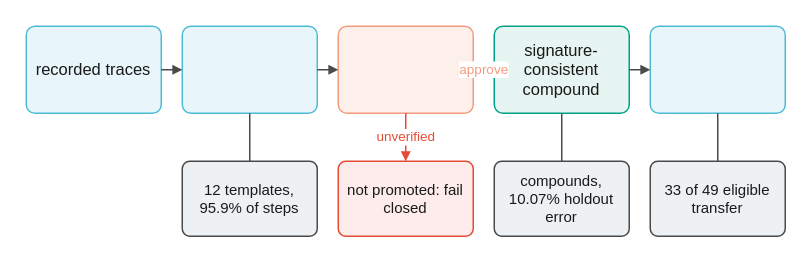
This 812x263 diagram has some shape labels left out. Each missing label, with the centre of its shape:
"action-signature mining" belongs at (249,69).
"developer gate" belongs at (405,69).
"replay verification" belongs at (717,69).
